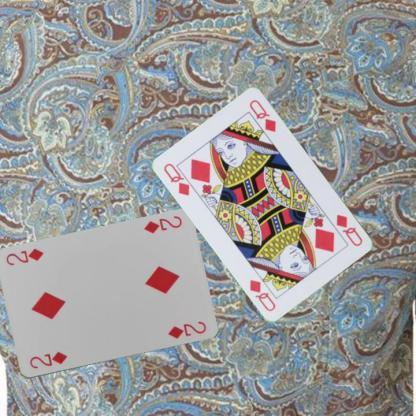2d: (26, 348, 68, 370), (141, 214, 183, 236)
Qd: (162, 161, 200, 197), (333, 211, 364, 248)
